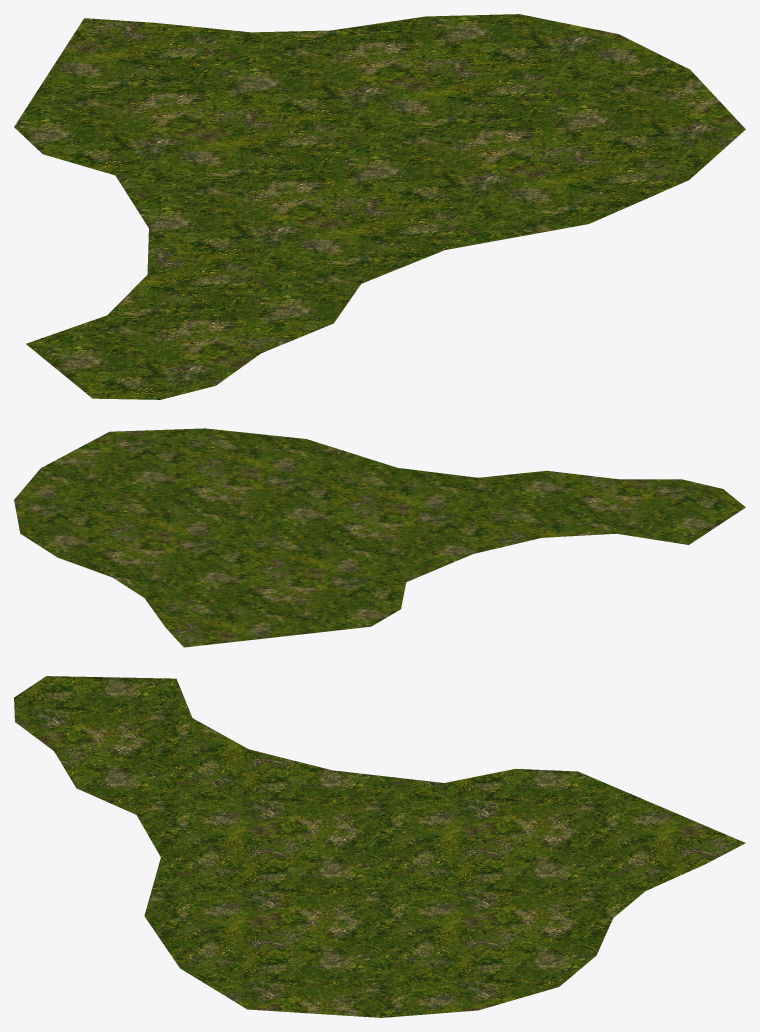
The model's file is OVERHILL_A_01_GROUND_24.fbx.
3 renders of one model, top to bottom at view 1: azimuth 30°, elevation 25°; view 2: azimuth 150°, elevation 25°; view 3: azimuth 270°, elevation 25°, orthographic. The views are drawn at different scales.
Visible parts, largest first — view 1: OVERHILL_A_01_GROUND_24; view 2: OVERHILL_A_01_GROUND_24; view 3: OVERHILL_A_01_GROUND_24.
Boxes of the visible parts, <box> form: OVERHILL_A_01_GROUND_24: <box>14,14,745,399</box>; OVERHILL_A_01_GROUND_24: <box>14,428,745,647</box>; OVERHILL_A_01_GROUND_24: <box>14,676,745,1017</box>.
Size of the model in its own units: 75283 by 0.0111 by 68115.
1 material, 1 textured.
